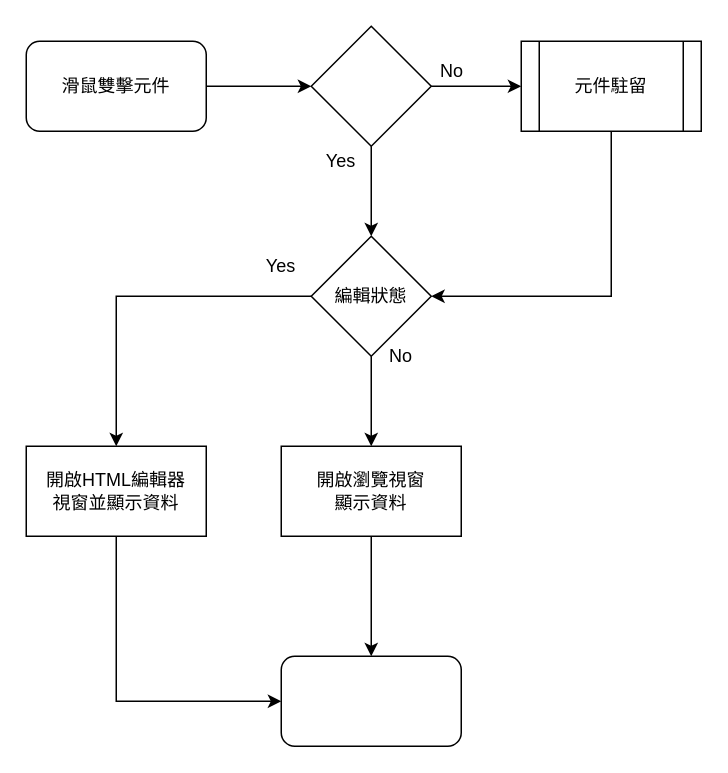
This 728x773 diagram has some shape labels left out. Each missing label, with the centre of its shape:
"執行完畢" belongs at [370,700].
"已駐留 該元件" belongs at [370,85].
